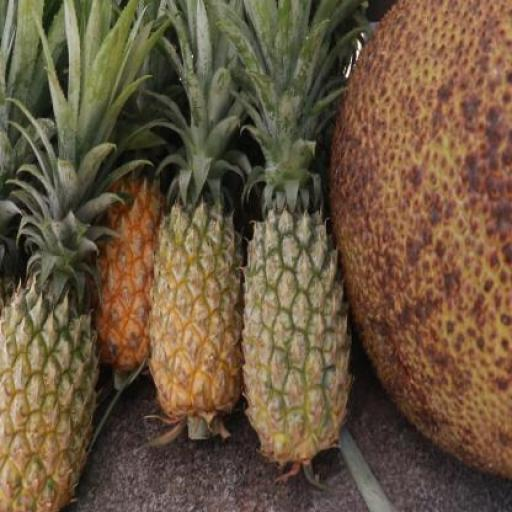------------------------------: (1, 286, 94, 510)
Pineapple - v8 v1: (152, 207, 248, 428), (95, 170, 170, 376)
